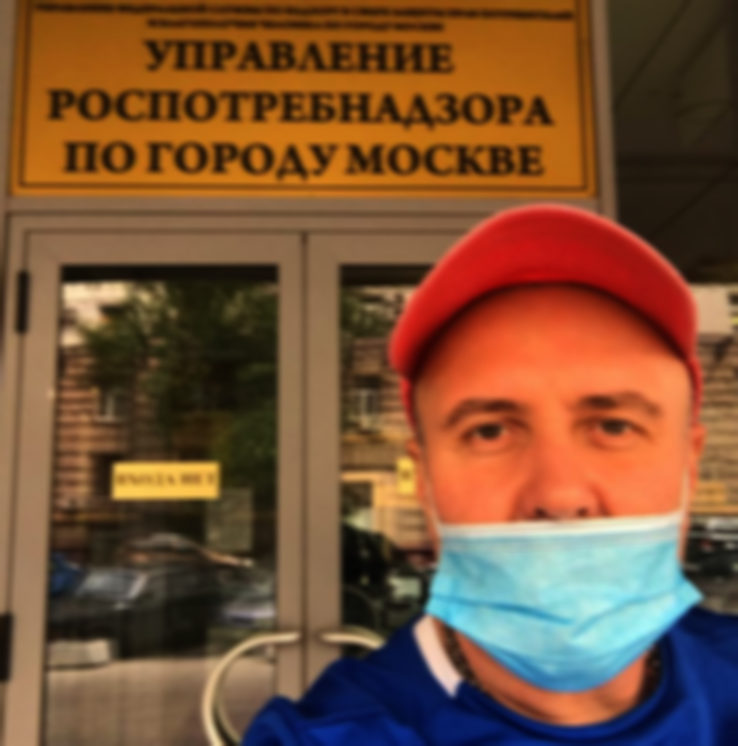mask_weared_incorrect: (407, 240, 712, 683)
